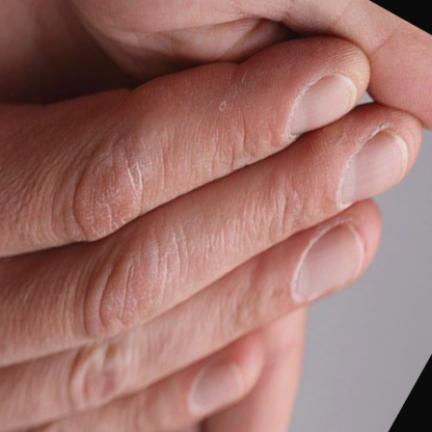Nail: (297, 224, 365, 297), (343, 129, 408, 203), (294, 73, 357, 132), (187, 363, 243, 415)
